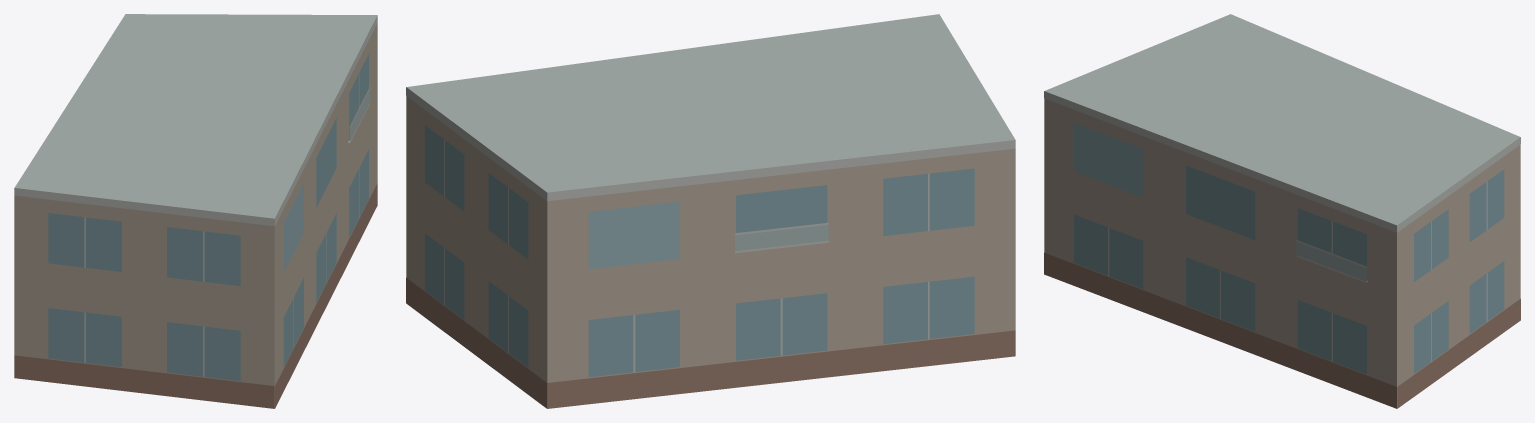
The model's file is survey-upis-32918969.glb.
3 views of the same model, side by side, from view 1: azimuth 30°, elevation 25°; view 2: azimuth 150°, elevation 25°; view 3: azimuth 270°, elevation 25° (orthographic). The views are drawn at different scales.
Parts seen in each view (by area): view 1: survey-upis-32918969.tmp; view 2: survey-upis-32918969.tmp; view 3: survey-upis-32918969.tmp.
Part boxes in pixels (bbox=[...]): survey-upis-32918969.tmp: bbox=[14, 14, 377, 408]; survey-upis-32918969.tmp: bbox=[406, 14, 1015, 408]; survey-upis-32918969.tmp: bbox=[1044, 14, 1520, 408].
Bounding box in the file's own units: 15.1 × 6.1 × 14.37.
